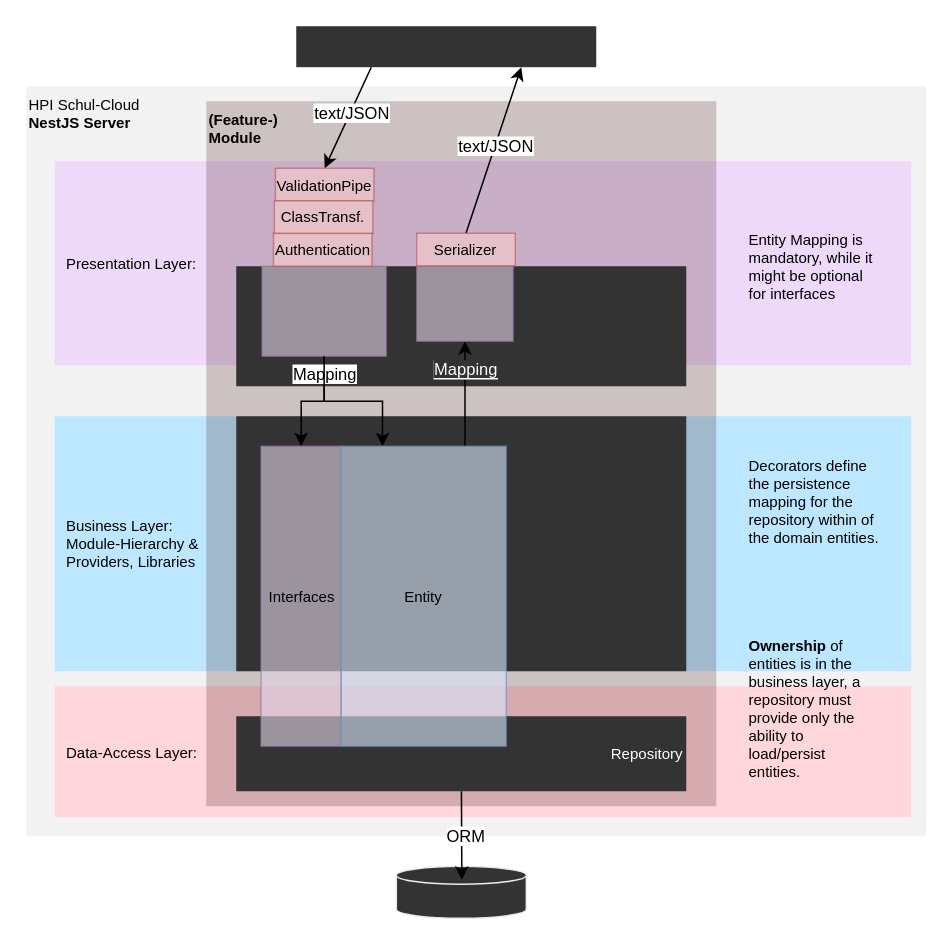
This 951x945 diagram has some shape labels left out. Each missing label, with the box of its shape:
API: (296, 26, 596, 66)
Controller: (236, 266, 686, 386)
Database: (395, 865, 526, 918)
REQUEST DTO: *.query.ts *.param.ts: (261, 265, 386, 356)
RESPONSE DTO: *.response.ts: (415, 265, 513, 341)
Use-Case: (236, 416, 686, 670)
